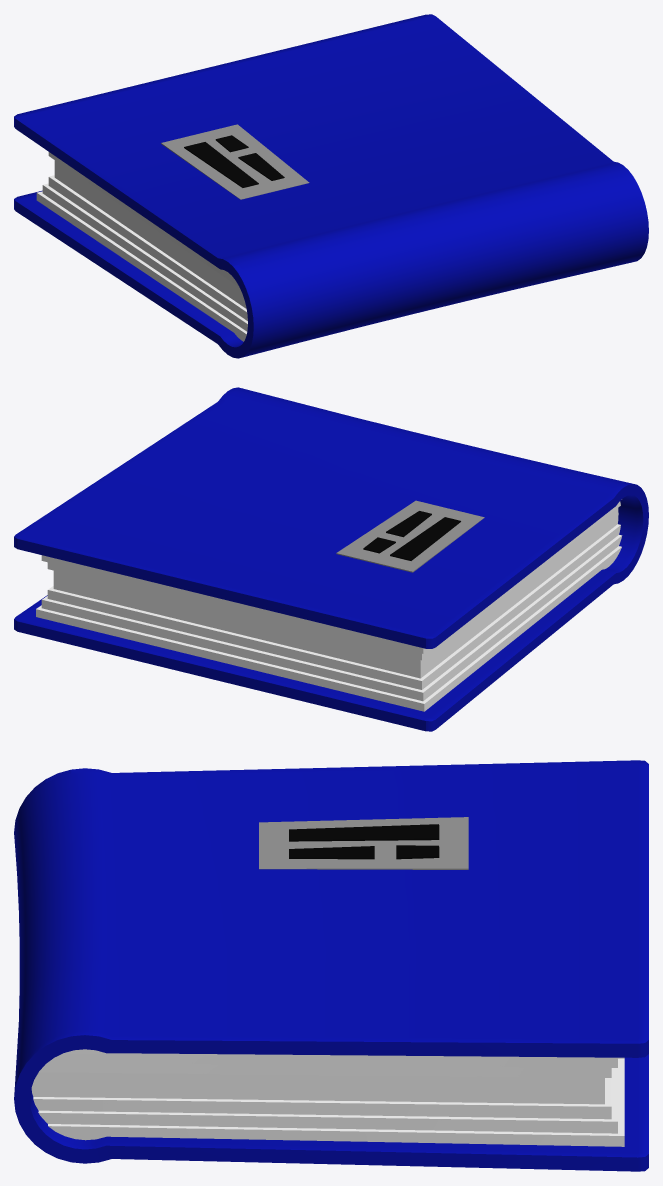
Rendered from Book_2.FBX.
The picture shows the model from 3 angles, top to bottom: view 1: azimuth 30°, elevation 25°; view 2: azimuth 150°, elevation 25°; view 3: azimuth 270°, elevation 25°; orthographic projection. The views are drawn at different scales.
Parts seen in each view (by area): view 1: Plane006; view 2: Plane006; view 3: Plane006.
Part boxes in pixels (x1,y1,x2,y2): Plane006: (14, 14, 648, 358); Plane006: (14, 387, 648, 731); Plane006: (14, 760, 648, 1171).
Size of the model in its own units: 1897 by 405 by 1796.
